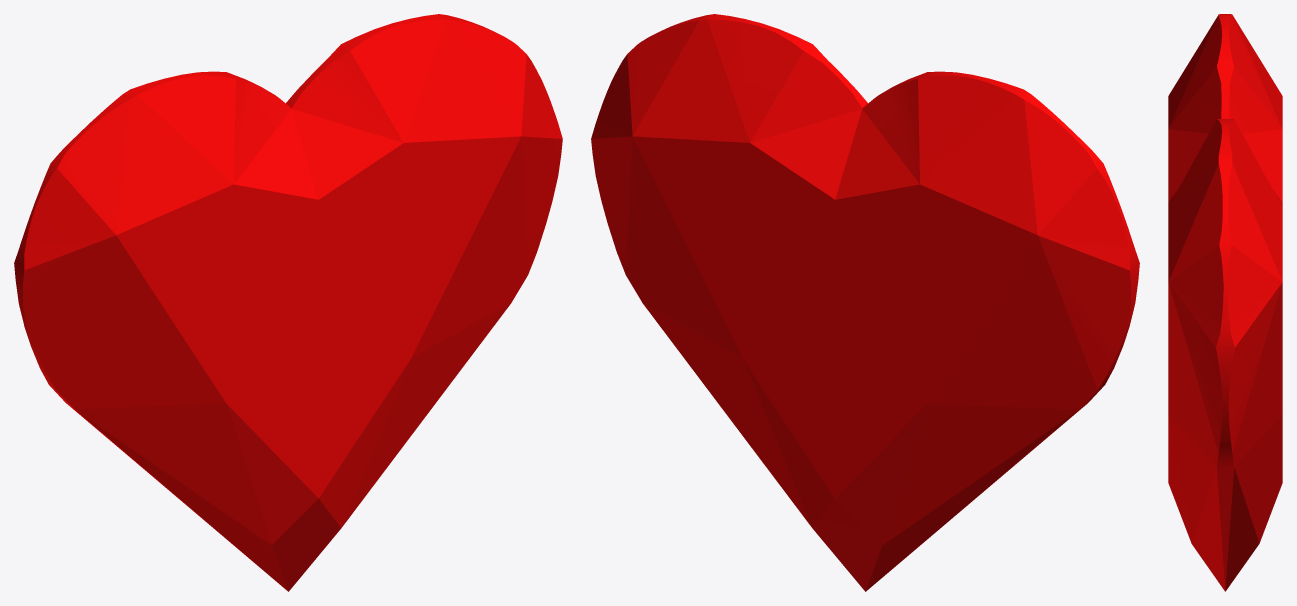
Rendered from cubo13.gltf.
The picture shows the model from 3 angles, left to right: view 1: azimuth 30°, elevation 25°; view 2: azimuth 150°, elevation 25°; view 3: azimuth 270°, elevation 25°; orthographic projection. The views are drawn at different scales.
Visible parts, largest first — view 1: xxx_blinn1_0; view 2: xxx_blinn1_0; view 3: xxx_blinn1_0.
Part boxes in pixels (box(x1,y1,x2,y2)): xxx_blinn1_0: box(14, 14, 562, 591); xxx_blinn1_0: box(591, 14, 1139, 591); xxx_blinn1_0: box(1168, 14, 1282, 591).
Bounding box in the file's own units: 0.676 × 0.6493 × 0.1317.
